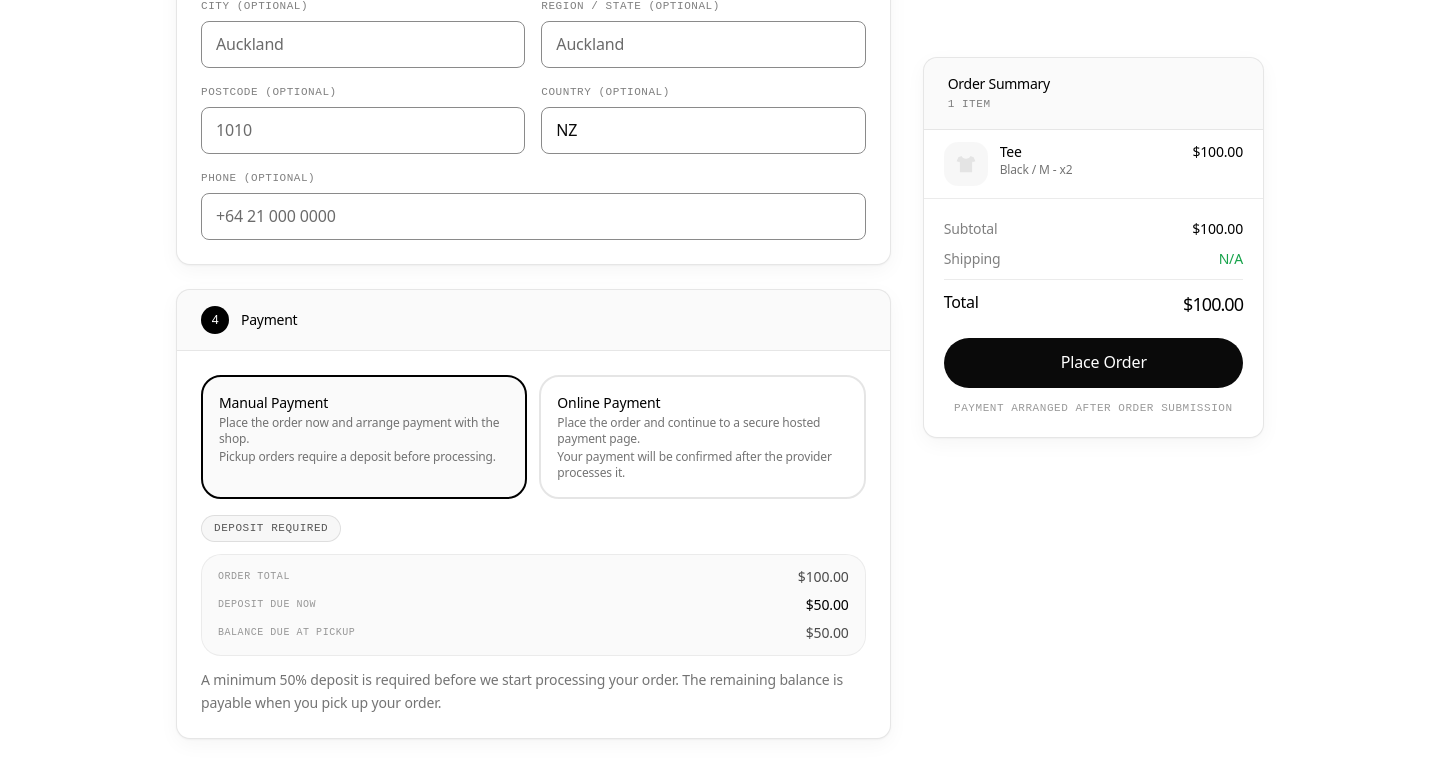
checkout page — quote fetching › disables submission and alerts when the quote fails
(page scrolled)
Click the radio button labelled "Online Payment": (609, 402) top-left (539, 375), bottom-right (866, 499)
(page scrolled)
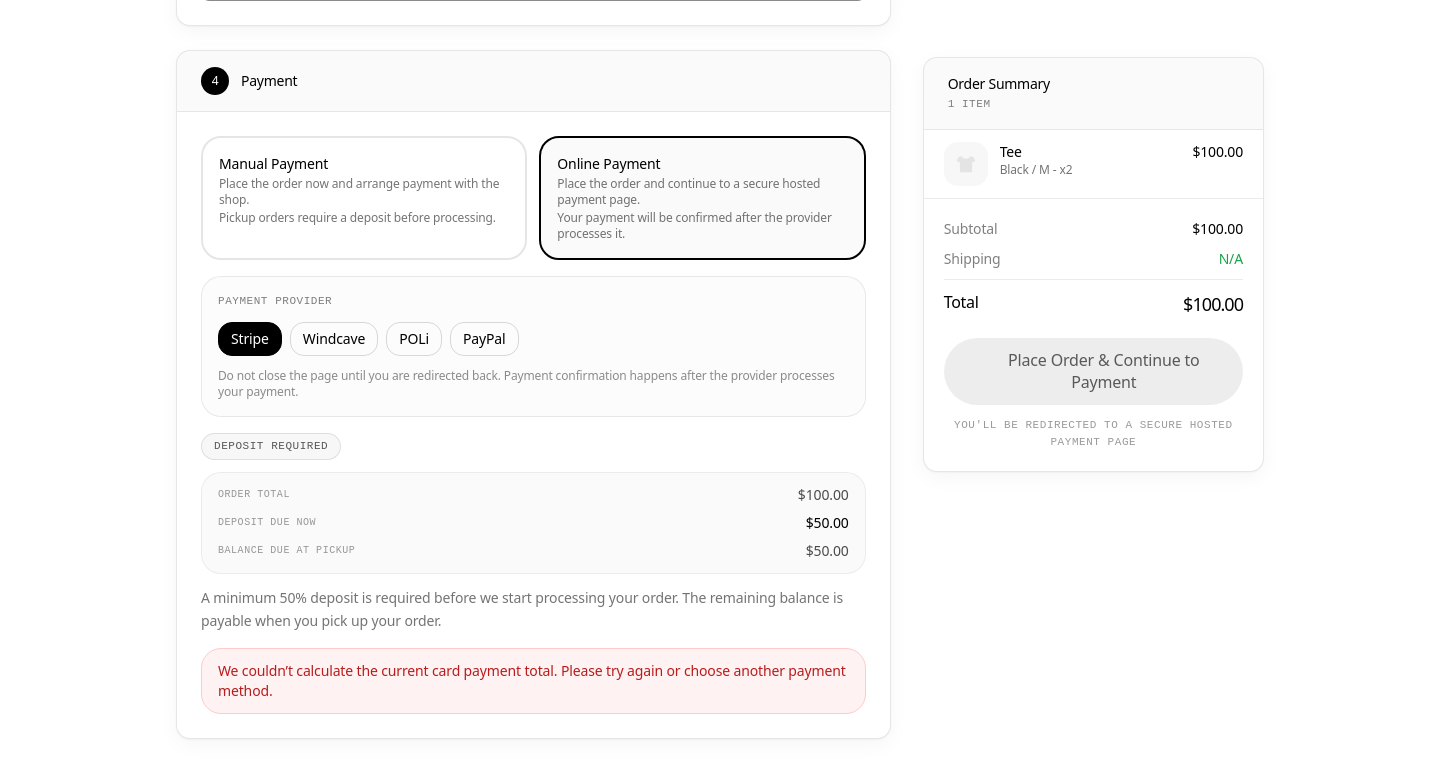
Now the submit button is disabled, box top-left (944, 338), bottom-right (1243, 405)
Now the message shows "We couldn’t calculate the current card payment total", box top-left (218, 661), bottom-right (846, 700)
